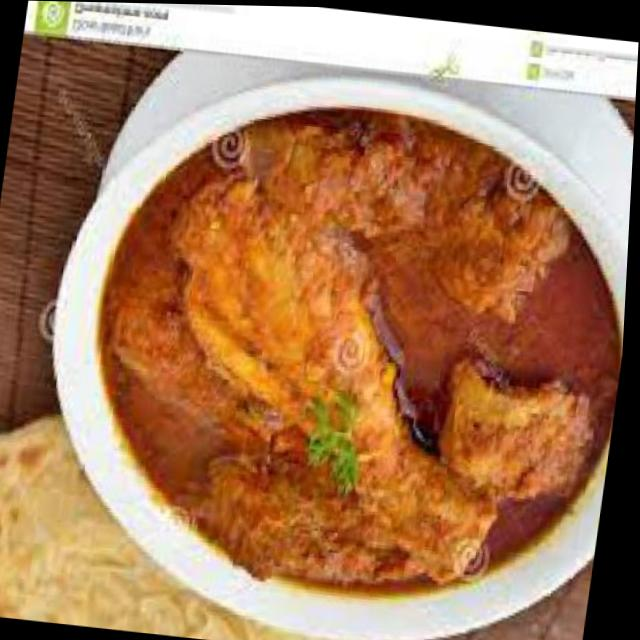CHICKEN CURRY: (93, 110, 620, 601)
